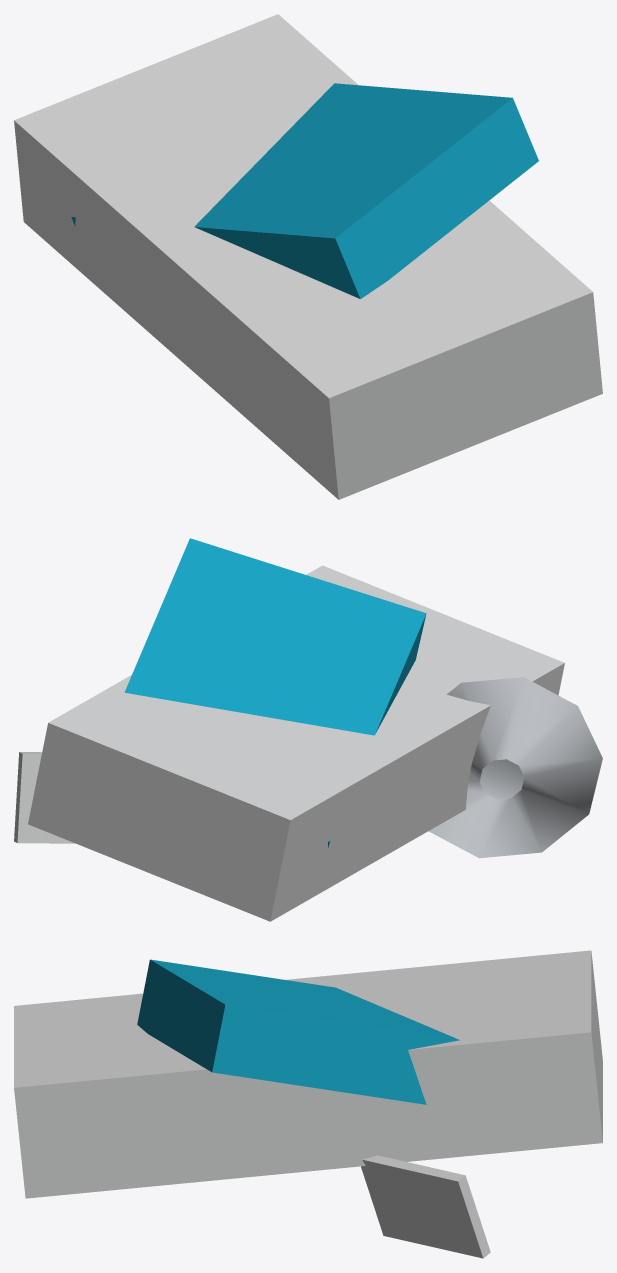
Rendered from news-van-wreck.glb.
The picture shows the model from 3 angles, top to bottom: view 1: azimuth 30°, elevation 25°; view 2: azimuth 150°, elevation 25°; view 3: azimuth 270°, elevation 25°; orthographic projection. The views are drawn at different scales.
Visible parts, largest first — view 1: Root; view 2: Root; view 3: Root.
Part boxes in pixels (x1,y1,x2,y2): Root: [14, 14, 602, 499]; Root: [14, 538, 602, 921]; Root: [14, 950, 602, 1258].
Size of the model in its own units: 4.19 by 2.69 by 5.07.
